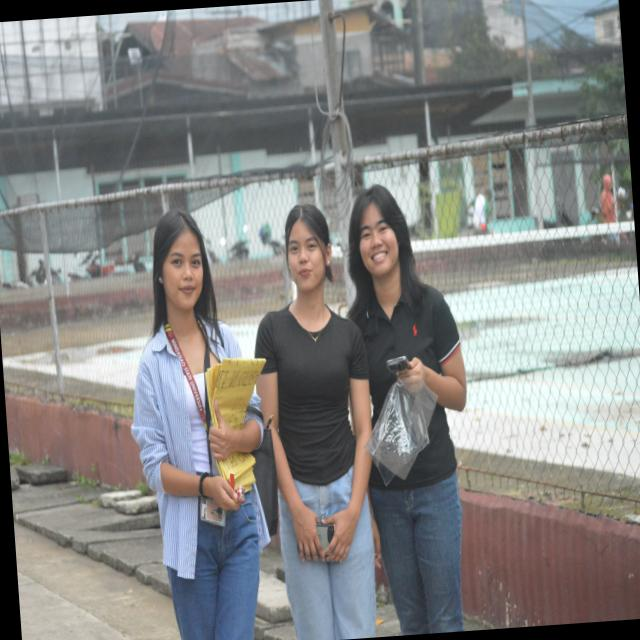person: (132, 210, 269, 639), (349, 185, 466, 634), (255, 205, 376, 639)
